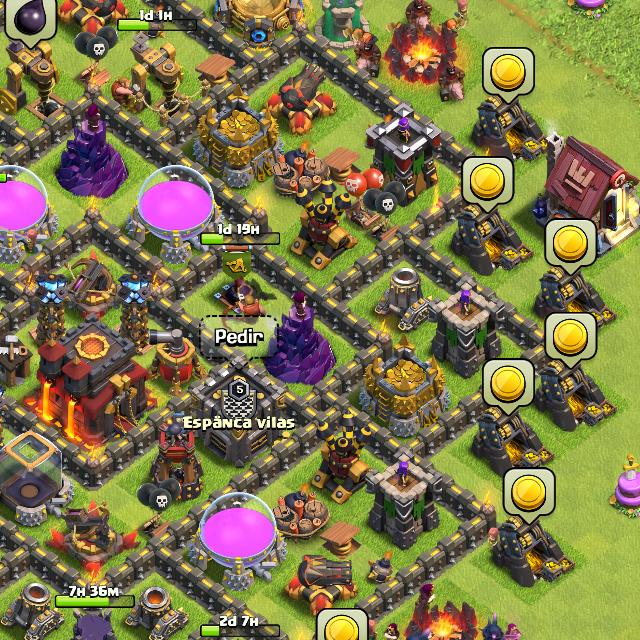coin: (462, 157, 515, 215), (546, 217, 598, 275), (484, 359, 535, 418), (506, 468, 555, 528), (546, 312, 598, 368), (484, 48, 535, 102), (317, 609, 368, 640)
